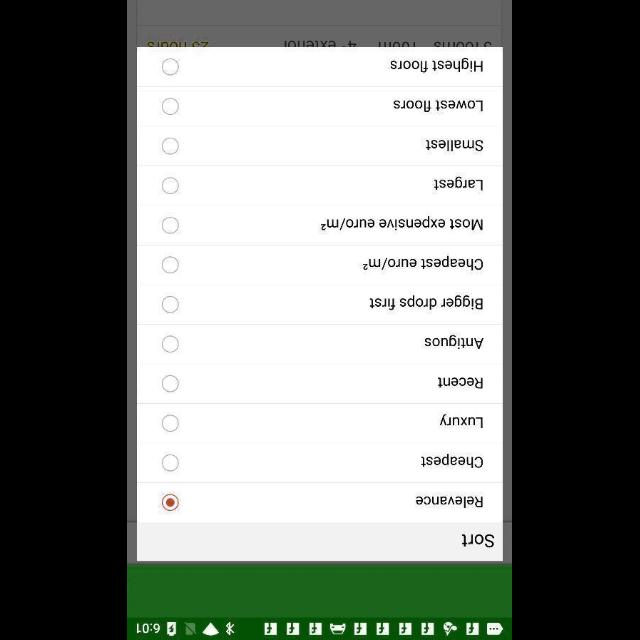checkbox: (162, 455, 180, 471), (162, 336, 180, 352), (162, 257, 180, 273), (162, 218, 180, 234), (163, 98, 179, 116), (163, 494, 180, 510), (163, 59, 179, 76), (163, 416, 179, 432), (163, 375, 179, 391), (163, 297, 179, 313), (163, 178, 179, 194), (163, 138, 179, 154)
panel: (138, 47, 504, 560)
text: (321, 216, 483, 230), (363, 256, 483, 270), (370, 296, 484, 310), (391, 59, 483, 73), (394, 100, 484, 112), (421, 454, 483, 468), (416, 496, 484, 508), (425, 335, 483, 349), (434, 176, 484, 190), (425, 139, 483, 151), (440, 414, 484, 428), (438, 377, 484, 389), (462, 534, 494, 546)
uppertaskbar: (128, 617, 512, 639)
